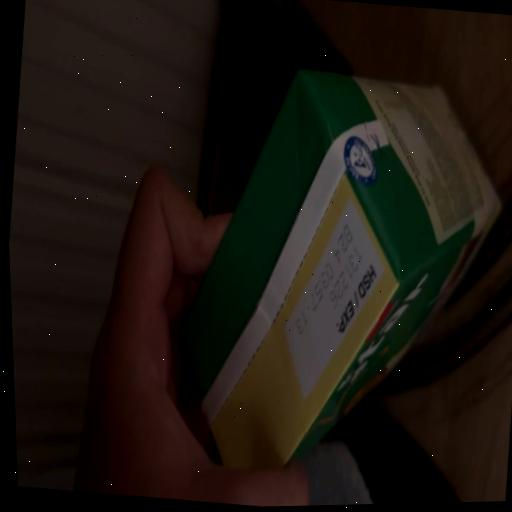ly_giay: (181, 70, 500, 467)
